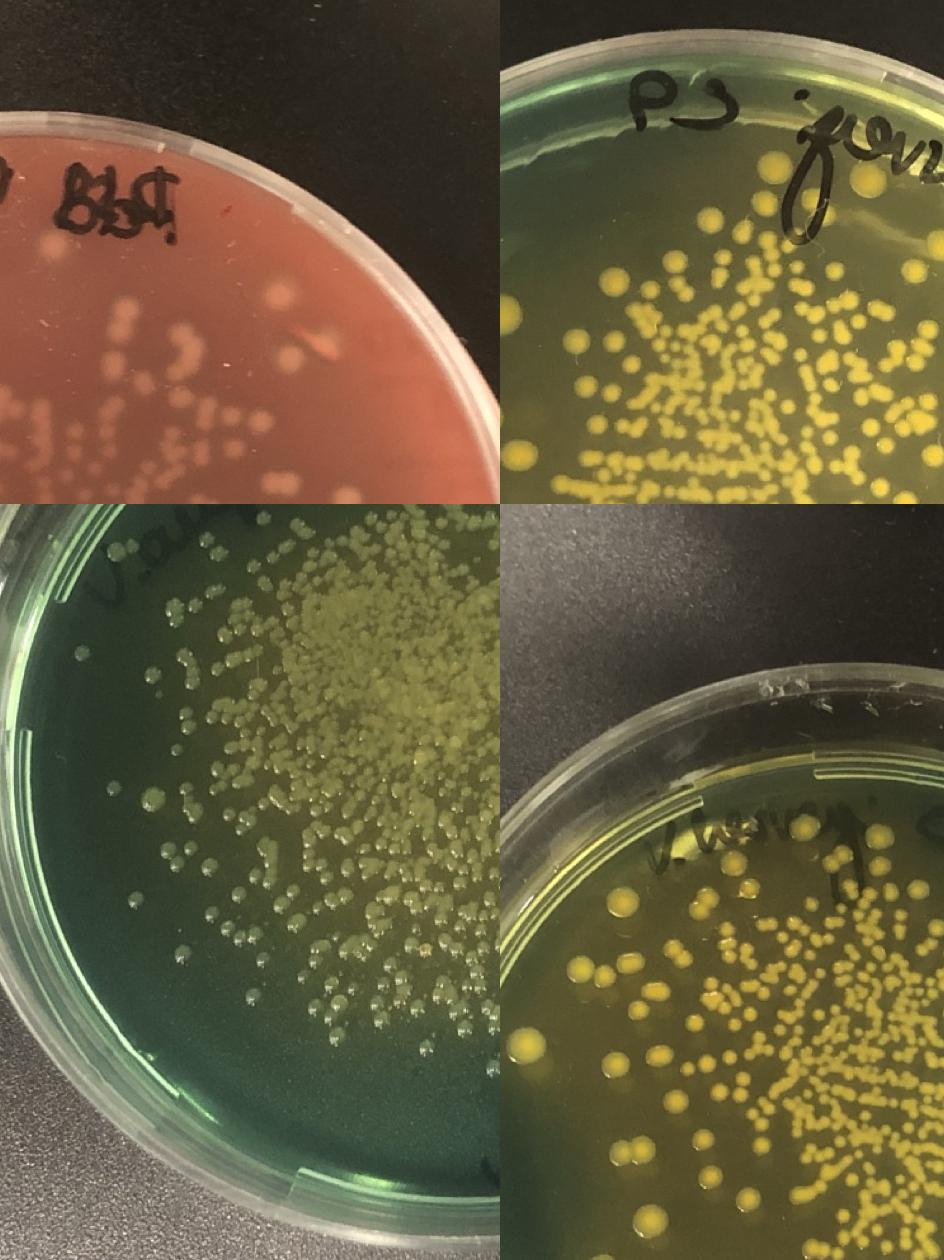pddamselae: (104, 294, 141, 345), (138, 458, 174, 492), (63, 420, 88, 463), (166, 383, 198, 415), (279, 345, 308, 374), (220, 436, 248, 464), (248, 407, 276, 435), (100, 354, 128, 382), (40, 232, 68, 260), (162, 422, 184, 446), (335, 486, 363, 504), (97, 440, 119, 462), (77, 489, 95, 504), (104, 483, 122, 498), (57, 468, 75, 483), (86, 463, 104, 478), (0, 480, 8, 502)
vangil: (270, 884, 308, 934), (365, 976, 393, 1034), (308, 887, 356, 918), (244, 550, 280, 578), (158, 843, 184, 874), (435, 934, 465, 958), (402, 938, 434, 958), (328, 993, 351, 1016), (415, 1037, 437, 1061), (455, 1019, 477, 1043), (243, 984, 265, 1008), (252, 950, 274, 974), (200, 904, 222, 928), (123, 890, 145, 914), (228, 882, 250, 906), (103, 778, 125, 802), (326, 1026, 348, 1048), (172, 944, 194, 966), (254, 508, 274, 530), (482, 1056, 500, 1080), (292, 968, 310, 986), (245, 927, 263, 945), (246, 866, 264, 884), (339, 859, 357, 877), (181, 840, 199, 858), (220, 805, 238, 823), (208, 660, 226, 678), (186, 596, 204, 614), (382, 955, 398, 973), (168, 742, 186, 758), (151, 688, 169, 704), (303, 544, 321, 560), (74, 647, 92, 662), (197, 532, 215, 546), (386, 844, 400, 856), (471, 552, 483, 566)
vharveyi: (564, 951, 648, 988), (897, 224, 944, 289), (625, 979, 673, 1024), (660, 246, 696, 304), (568, 368, 624, 405), (500, 431, 539, 481), (503, 1026, 548, 1068), (630, 1201, 672, 1241), (500, 290, 531, 344), (606, 1134, 658, 1166), (556, 320, 596, 360), (708, 1070, 752, 1106), (603, 883, 643, 920), (597, 260, 633, 300), (759, 146, 795, 186), (687, 883, 722, 924), (913, 917, 944, 963), (758, 229, 786, 279), (650, 323, 683, 365), (598, 1049, 634, 1081), (662, 936, 694, 972), (742, 1030, 777, 1062), (694, 204, 726, 238), (586, 414, 632, 437), (862, 821, 898, 850), (678, 1051, 718, 1077), (824, 287, 862, 314), (733, 1184, 766, 1215), (819, 846, 855, 874), (718, 848, 750, 878), (658, 1088, 692, 1116), (750, 188, 780, 219), (695, 1164, 727, 1192), (789, 814, 821, 842), (642, 1044, 676, 1070), (919, 437, 944, 470), (869, 1223, 894, 1256), (893, 487, 939, 504), (756, 306, 786, 332), (600, 327, 628, 354), (691, 1126, 718, 1154), (734, 322, 756, 356), (893, 1173, 920, 1200), (548, 470, 574, 498), (917, 314, 943, 342), (822, 258, 848, 286), (745, 1106, 771, 1134), (730, 219, 756, 246), (829, 1229, 851, 1260), (736, 879, 764, 902), (906, 879, 934, 902), (915, 976, 940, 1001), (619, 353, 645, 377), (874, 436, 898, 461), (858, 414, 882, 439), (868, 475, 892, 499), (681, 1010, 705, 1034), (868, 854, 892, 878), (799, 423, 816, 456), (640, 278, 664, 300), (712, 246, 736, 268), (750, 1136, 772, 1160), (799, 1238, 821, 1260), (754, 916, 780, 933), (820, 375, 842, 395), (848, 312, 870, 332), (788, 257, 810, 277), (904, 354, 927, 373), (898, 1226, 914, 1253), (918, 392, 940, 411), (718, 949, 738, 969), (801, 894, 821, 914), (808, 328, 830, 346), (718, 919, 738, 938), (792, 300, 812, 318), (843, 1170, 861, 1190), (721, 1048, 739, 1068), (708, 276, 727, 294), (660, 484, 678, 502), (594, 466, 612, 483), (702, 976, 720, 992), (827, 458, 843, 475), (851, 470, 867, 486), (823, 430, 839, 446), (764, 386, 778, 404), (728, 1016, 742, 1034), (845, 446, 861, 461), (793, 347, 809, 362), (780, 400, 796, 414), (836, 1208, 850, 1224), (900, 1120, 916, 1134), (858, 1108, 874, 1122), (773, 1023, 789, 1037), (802, 948, 816, 964), (728, 408, 742, 423), (812, 1007, 824, 1024), (801, 1088, 815, 1102), (783, 984, 797, 998), (814, 966, 828, 980), (822, 932, 836, 946), (776, 930, 790, 944), (852, 908, 866, 922), (834, 902, 848, 916), (797, 925, 811, 938), (932, 1160, 944, 1175), (744, 1007, 756, 1022), (718, 1001, 730, 1016), (853, 1148, 865, 1162), (829, 1002, 841, 1016), (843, 942, 855, 956), (865, 961, 877, 974), (834, 1136, 846, 1148), (852, 1027, 864, 1039), (862, 936, 874, 948), (764, 499, 786, 504)
